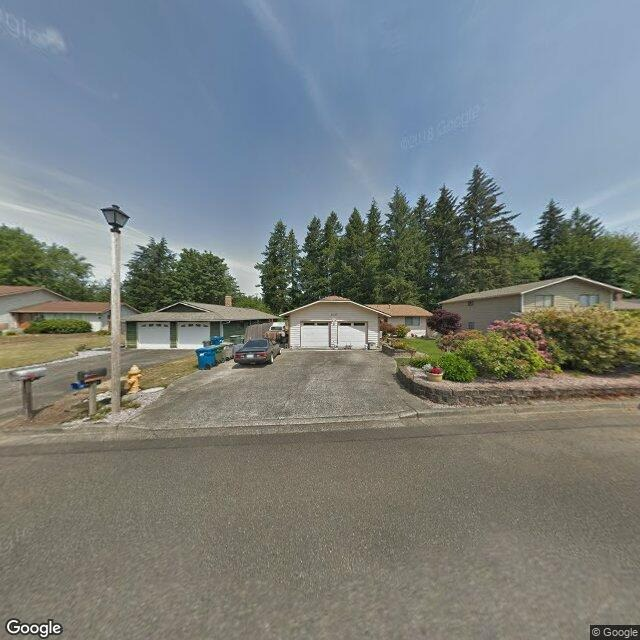hydrant: (125, 360, 144, 396)
